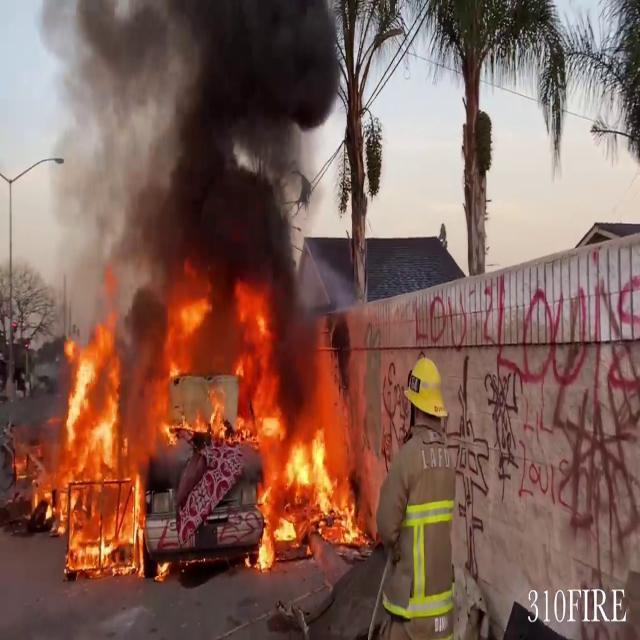Fire: (39, 280, 369, 568), (222, 298, 368, 562), (40, 314, 147, 576)
Smoke: (33, 0, 346, 332)
